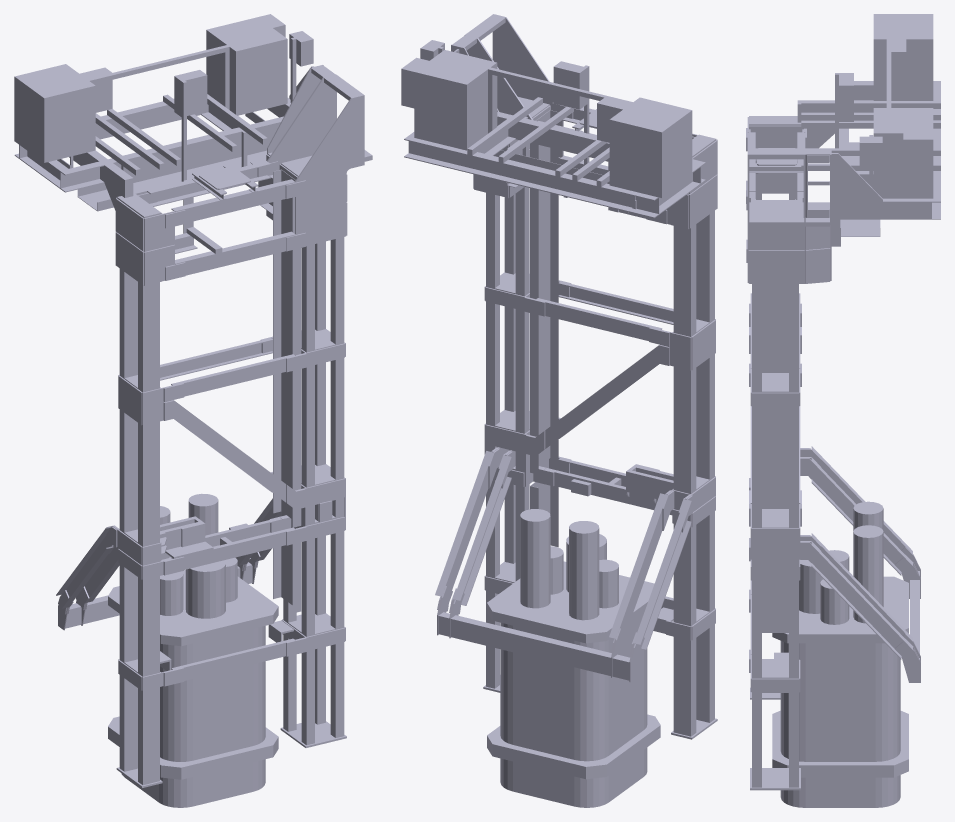
Rendered from Tower-Turret-SideA.glb.
The picture shows the model from 3 angles, left to right: view 1: azimuth 30°, elevation 25°; view 2: azimuth 150°, elevation 25°; view 3: azimuth 270°, elevation 25°; orthographic projection.
Visible parts, largest first — view 1: null; view 2: null; view 3: null.
Boxes of the visible parts, bbox=[...] form: null: bbox=[14, 14, 372, 807]; null: bbox=[401, 14, 717, 807]; null: bbox=[746, 14, 940, 807].
Size of the model in its own units: 3.1 by 7.78 by 1.95.
